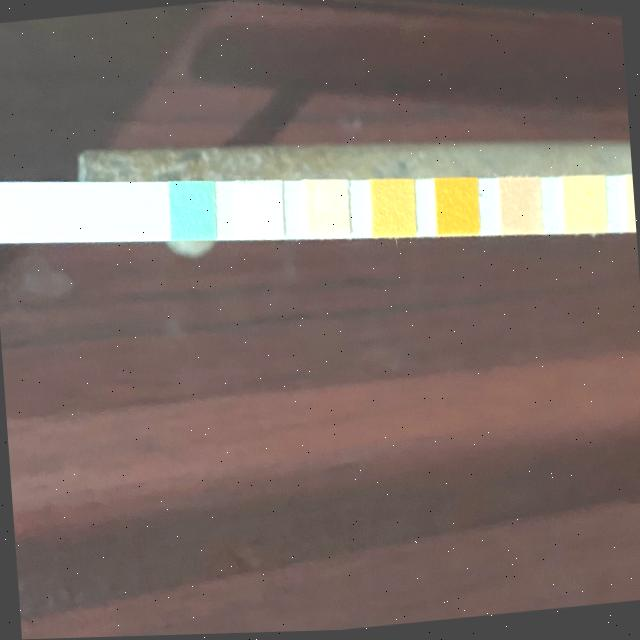Bilirubin: (240, 184, 282, 234)
Blood: (436, 181, 478, 235)
Glucose: (172, 184, 213, 235)
Ketone: (305, 183, 347, 239)
Protein: (564, 181, 606, 234)
SpGravity: (372, 183, 415, 237)
Urobilinogen: (626, 183, 636, 232)
pH: (500, 182, 540, 234)
